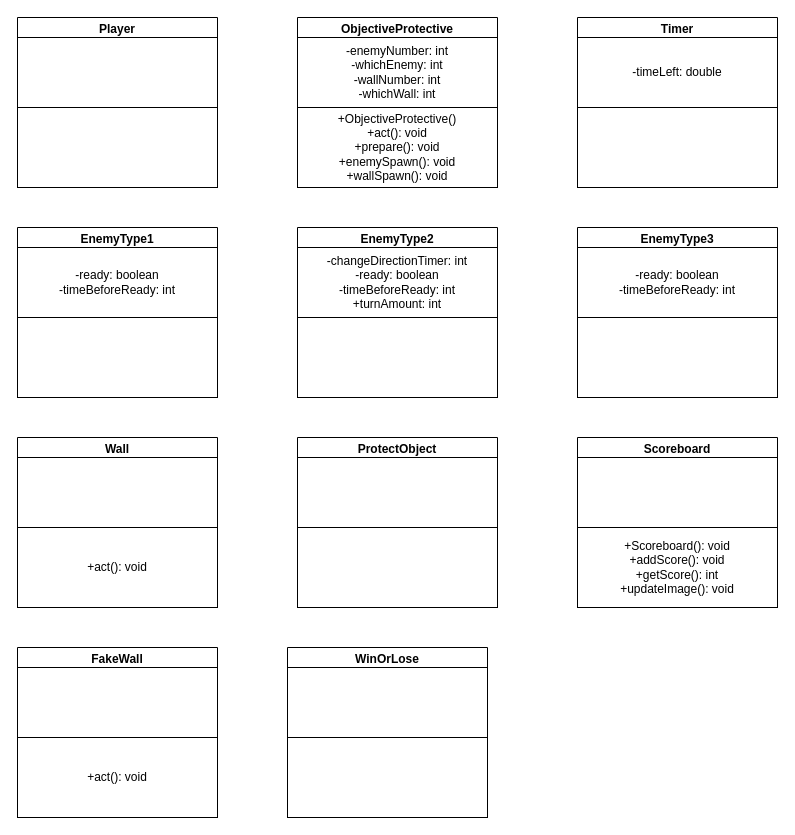
Some shapes in this 795 by 835 pixel diagram are drawn without their labels. Each missing label, with the centre of its shape:
+act(): void +movement(): void: the point at 117,357
+act(): void +movement();: the point at 677,357
+act(): void +playerMovement(): void +collision(): void: the point at 117,147
+act(): void +randomOrChase(): void +randomMovement(): void +chase(): void: the point at 397,357
+incrementTime: the point at 677,147
+randomTurn(): void +checkEdge: void +touchingEnemies: void +hurt(): void: the point at 397,567
+win(): void +lose(): void: the point at 387,777
-gameover(): boolean: the point at 387,702
-score: int: the point at 677,492
-timeBeforeReady: int: the point at 117,492
